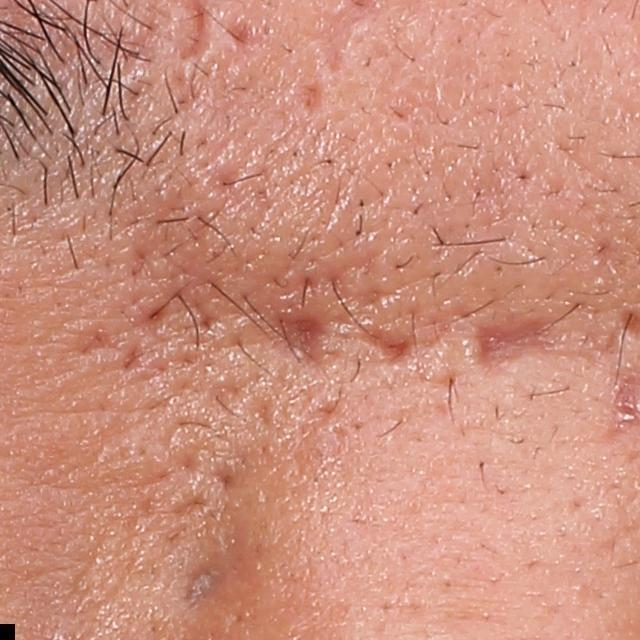atrophic_scar: (477, 307, 552, 375), (174, 544, 233, 618), (271, 290, 321, 369), (370, 330, 411, 367), (299, 84, 324, 118)
